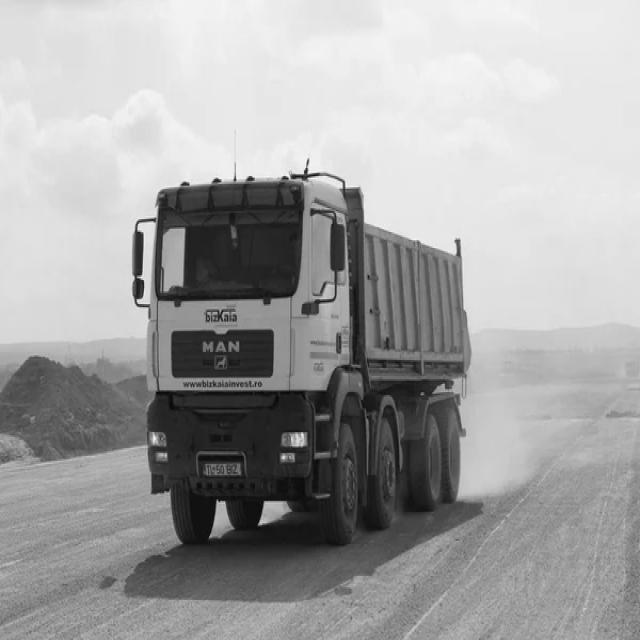Truck: (132, 168, 472, 546)
